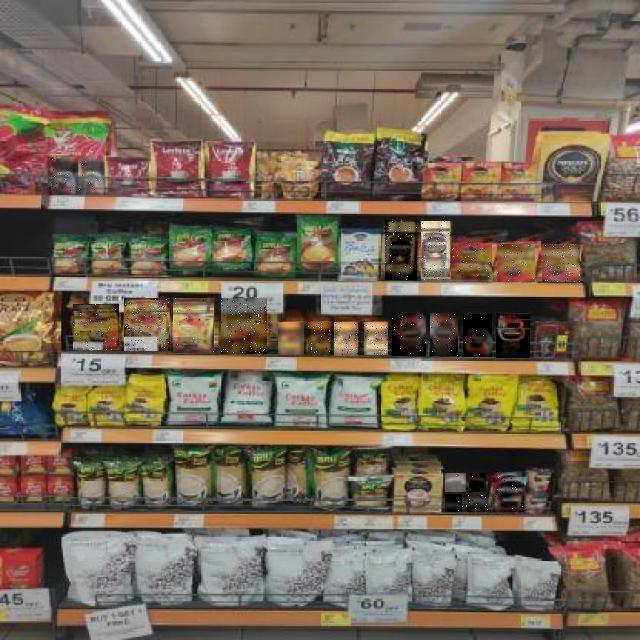Coffee: (221, 298, 267, 354), (124, 298, 170, 351), (174, 298, 218, 353), (73, 305, 119, 351), (385, 220, 417, 280), (421, 222, 450, 282), (451, 244, 492, 282), (496, 313, 530, 358), (392, 313, 426, 356), (497, 244, 535, 282), (542, 244, 580, 282), (463, 314, 492, 357), (430, 313, 458, 356), (493, 477, 524, 512), (53, 159, 79, 195), (79, 159, 104, 195), (278, 322, 304, 355), (334, 322, 358, 356), (364, 322, 388, 355), (308, 323, 330, 355), (445, 473, 466, 492), (467, 494, 489, 512), (470, 473, 488, 492), (446, 494, 464, 512)
